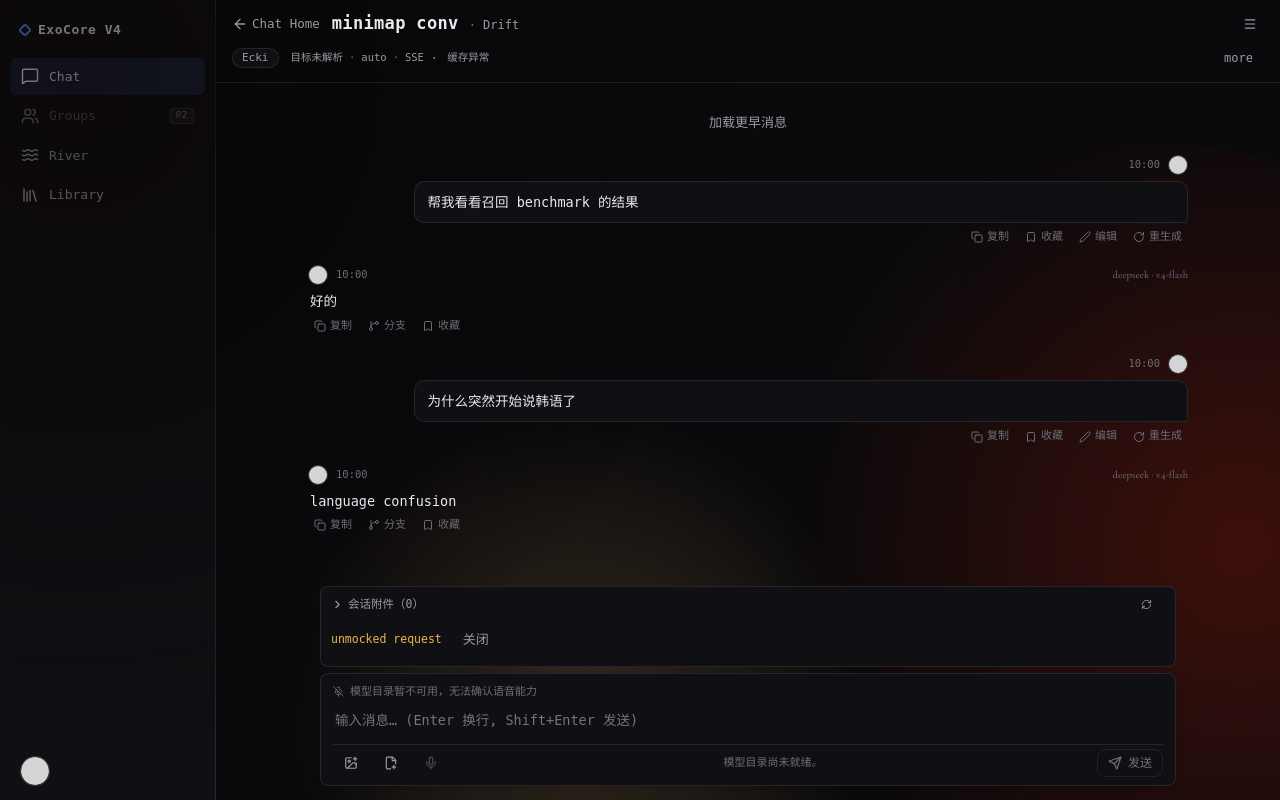
Test: MessageMinimap in the conversation page › filters by substring, highlights the hit, and offers older pages when nothing matches
expect the text "好的" is shown: met, box [310,293,337,309]
Click the button named "用户消息导航". click: point(1250, 24)
box: [1236,10,1264,38]
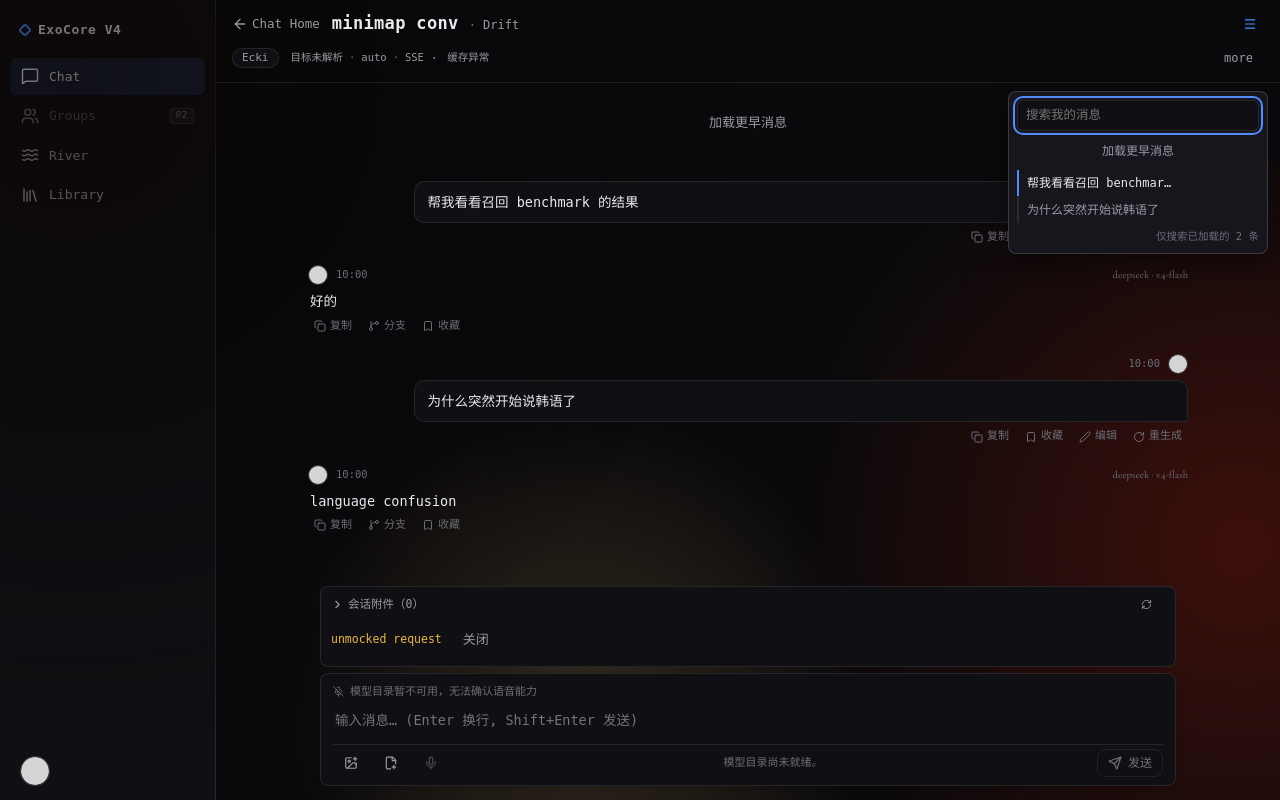
Type "BENCH" into the search field named "搜索用户消息". click: point(1138, 115)
box: [1017,100,1259,131]
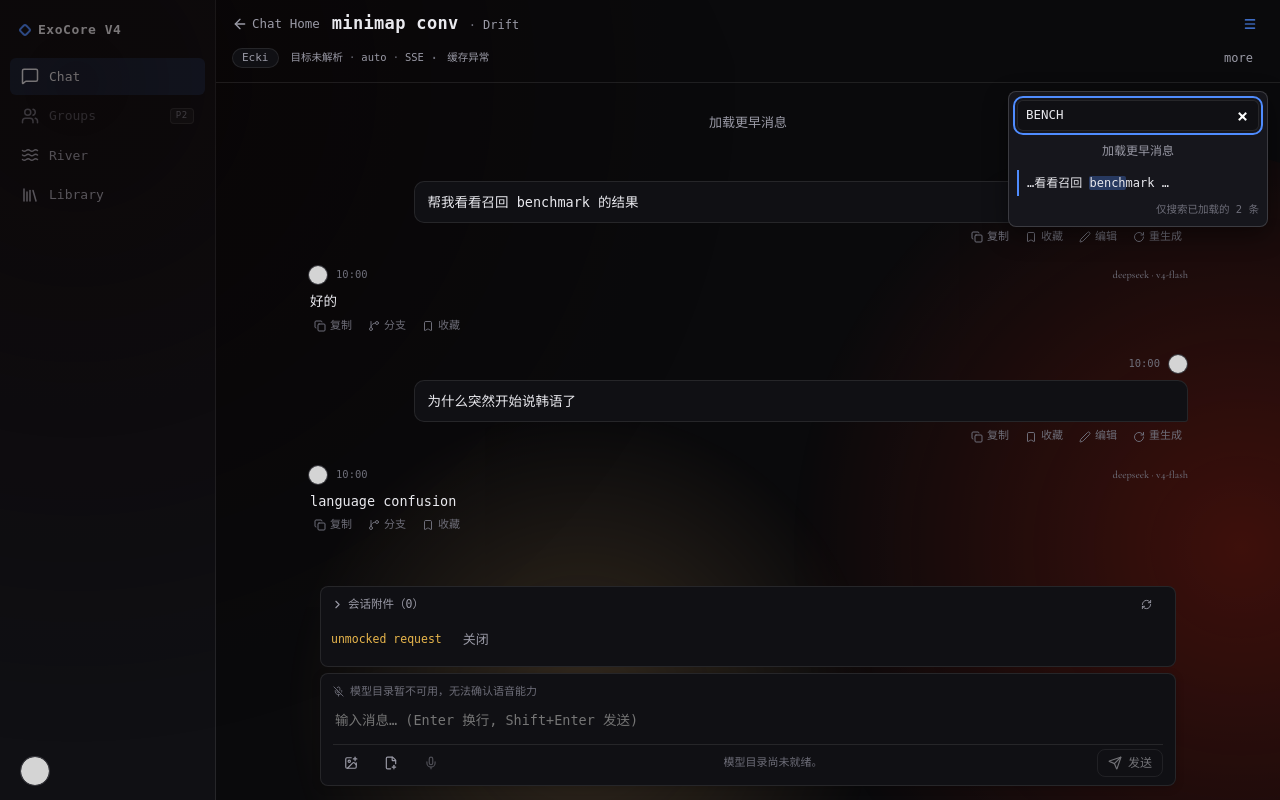
expect the text "bench" is shown: met, box [1090,176,1126,190]
Replace the text in the search field named "搜索用户消息" with "灰灰". click: point(1138, 115)
box: [1017,100,1259,131]
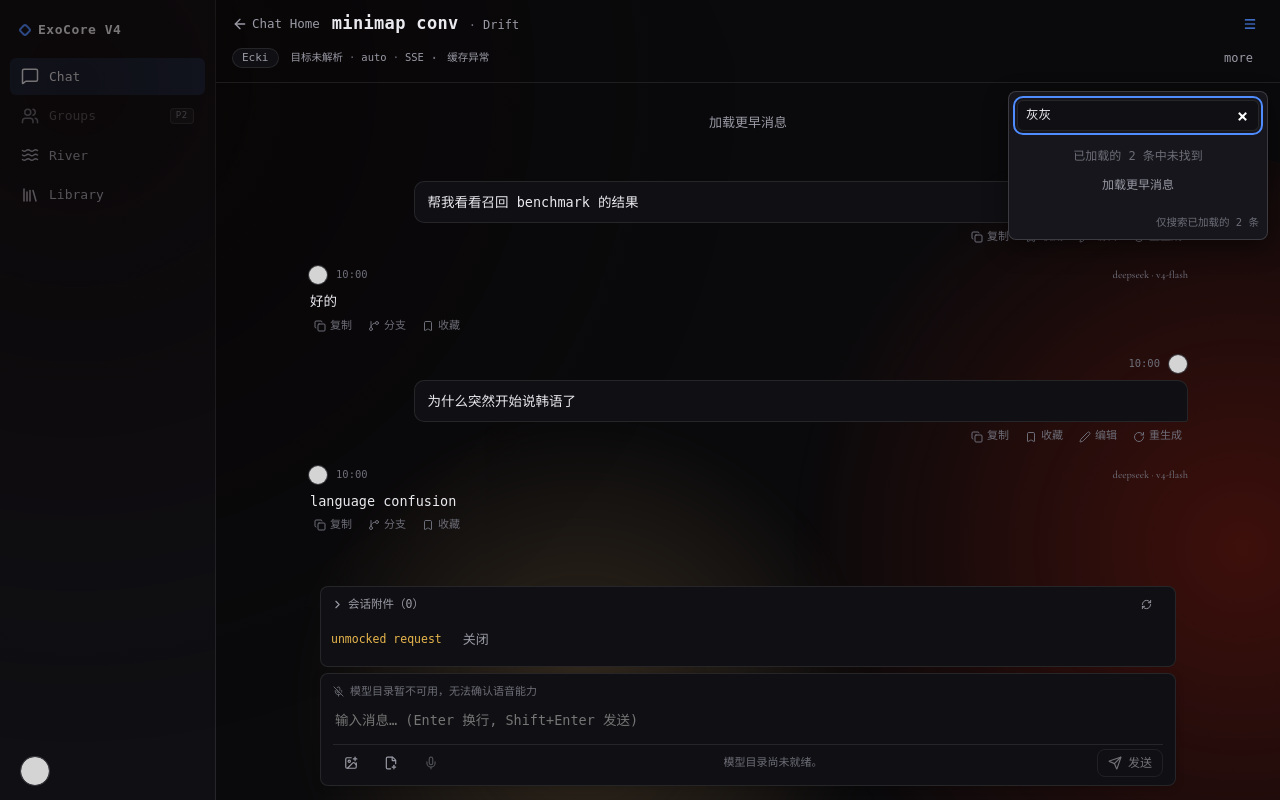
expect the text "已加载的 2 条中未找到" is shown: met, box [1073,147,1203,165]
Click the button "加载更早消息" below "条中未找到". click: point(1138, 185)
box: [1091,171,1185,199]
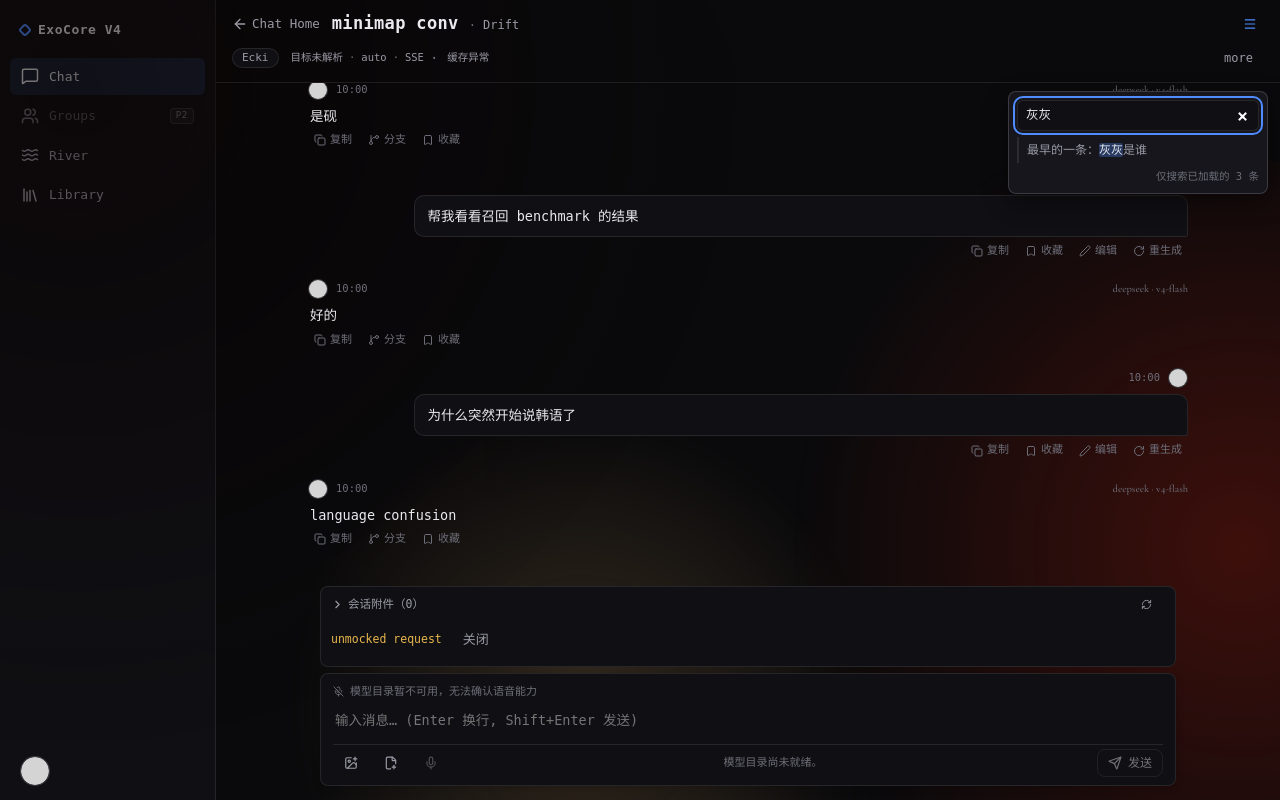
expect the text "灰灰" is shown: met, box [1099,143,1123,157]
expect the text "仅搜索已加载的 3 条" is shown: met, box [1156,170,1259,182]
expect the button "加载更早消息" is gone: met
